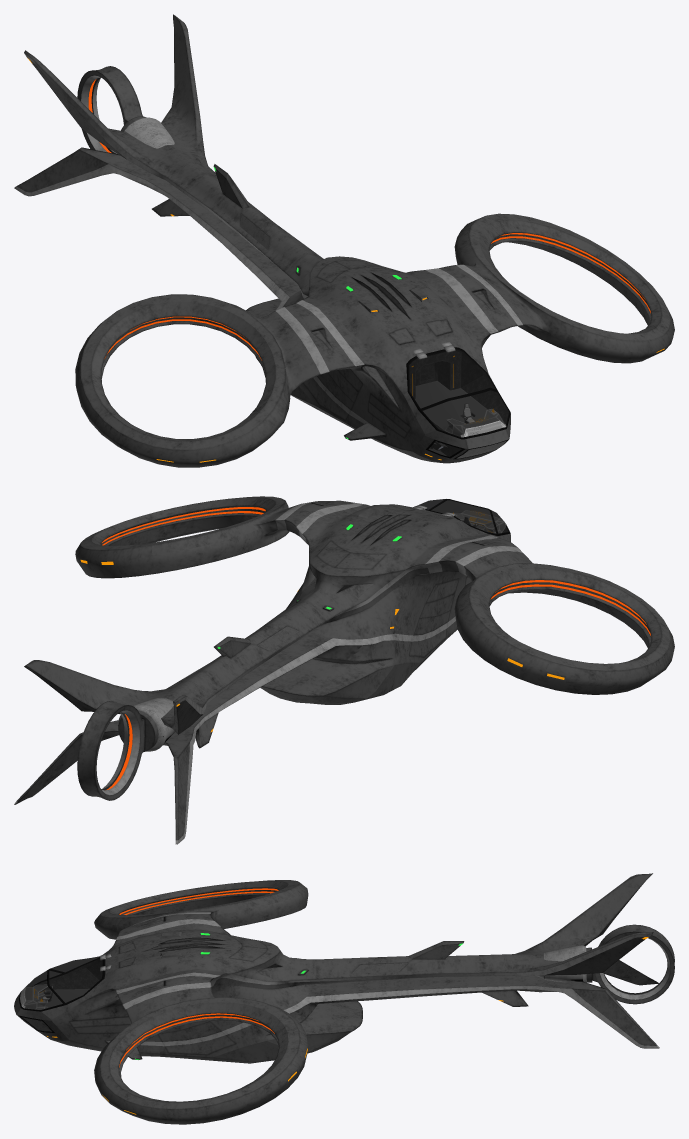
File: Futuristic Copter.glb
3 views of the same model, one above another, from view 1: azimuth 30°, elevation 25°; view 2: azimuth 150°, elevation 25°; view 3: azimuth 270°, elevation 25° (orthographic). The views are drawn at different scales.
Parts seen in each view (by area): view 1: Cylinder.021, Cylinder.006, Cylinder.045, Cylinder.043, Cylinder.012; view 2: Cylinder.021, Cylinder.006, Cylinder.045; view 3: Cylinder.021, Cylinder.006, Cylinder.043, Cylinder.045, Cylinder.012, Cylinder.022, Cylinder.014.
Boxes of the visible parts, x1=… form: Cylinder.021: x1=14, y1=14, x2=674, y2=467; Cylinder.006: x1=409, y1=349, x2=509, y2=456; Cylinder.045: x1=415, y1=381, x2=506, y2=437; Cylinder.043: x1=409, y1=350, x2=508, y2=431; Cylinder.012: x1=406, y1=347, x2=510, y2=439; Cylinder.021: x1=14, y1=496, x2=674, y2=844; Cylinder.006: x1=417, y1=499, x2=509, y2=533; Cylinder.045: x1=453, y1=510, x2=506, y2=533; Cylinder.021: x1=14, y1=873, x2=674, y2=1124; Cylinder.006: x1=22, y1=956, x2=102, y2=1031; Cylinder.043: x1=38, y1=959, x2=102, y2=989; Cylinder.045: x1=20, y1=984, x2=89, y2=1009; Cylinder.012: x1=19, y1=957, x2=105, y2=1011; Cylinder.022: x1=69, y1=1017, x2=130, y2=1027; Cylinder.014: x1=74, y1=1024, x2=129, y2=1033.
Size of the model in its own units: 6.98 by 2.11 by 8.79.
17 materials, 8 textured.
